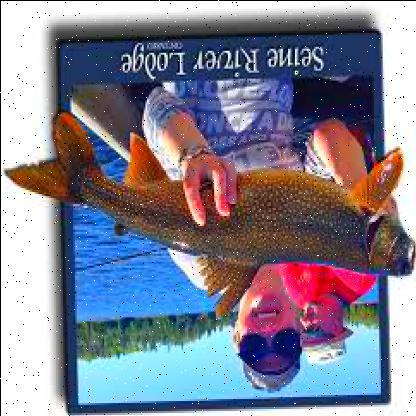fish: (14, 106, 415, 286)
